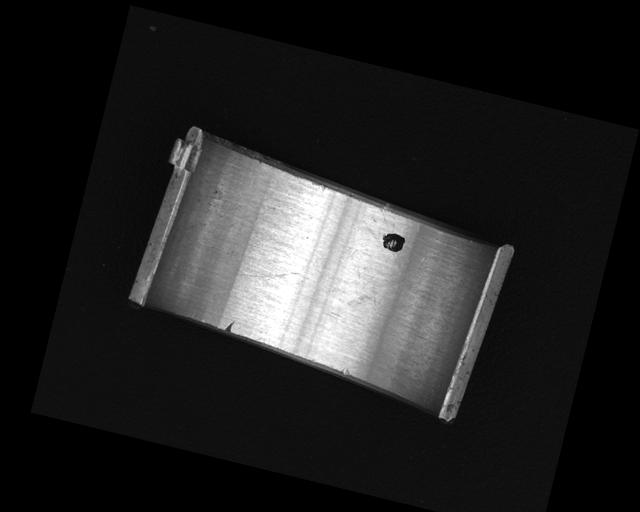blot: (344, 264, 402, 317), (378, 229, 407, 255)
bruise: (224, 318, 235, 333), (341, 368, 351, 377)
